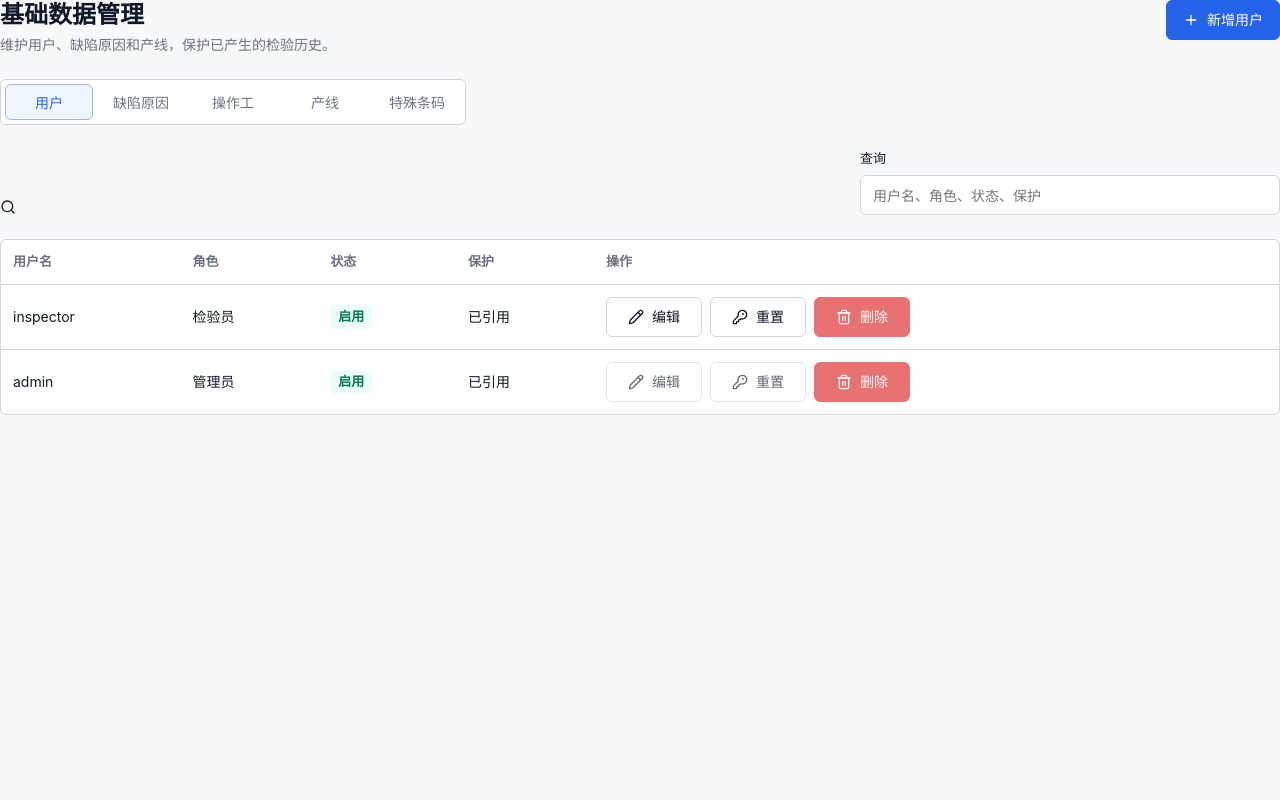
MasterDataPage › resets an inspector password and shows the result
This screenshot has width=1280, height=800.
Click the button with aria-label "重置密码 inspector".
click(758, 317)  # box [710,297,806,337]
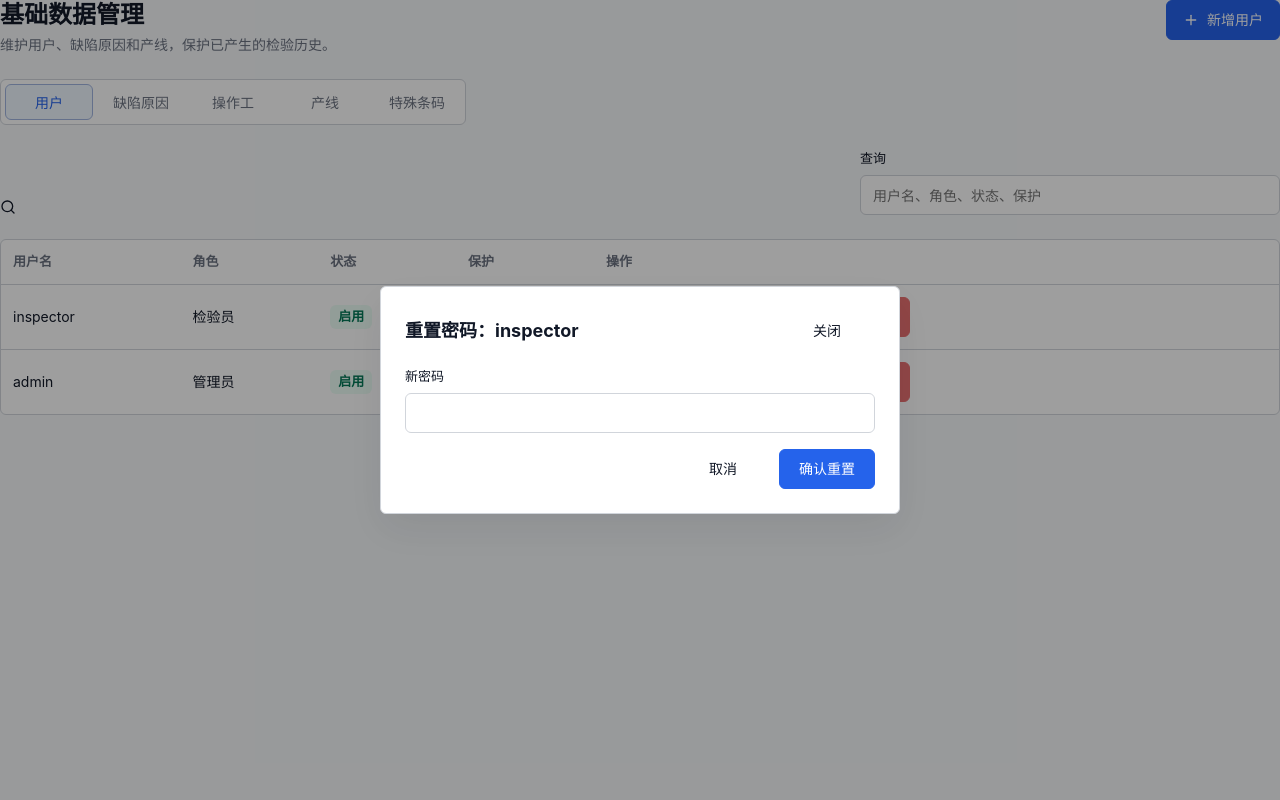
Type "reset-password" into the password field labelled "新密码".
click(640, 413); type("reset-password")  # box [405,393,875,433]
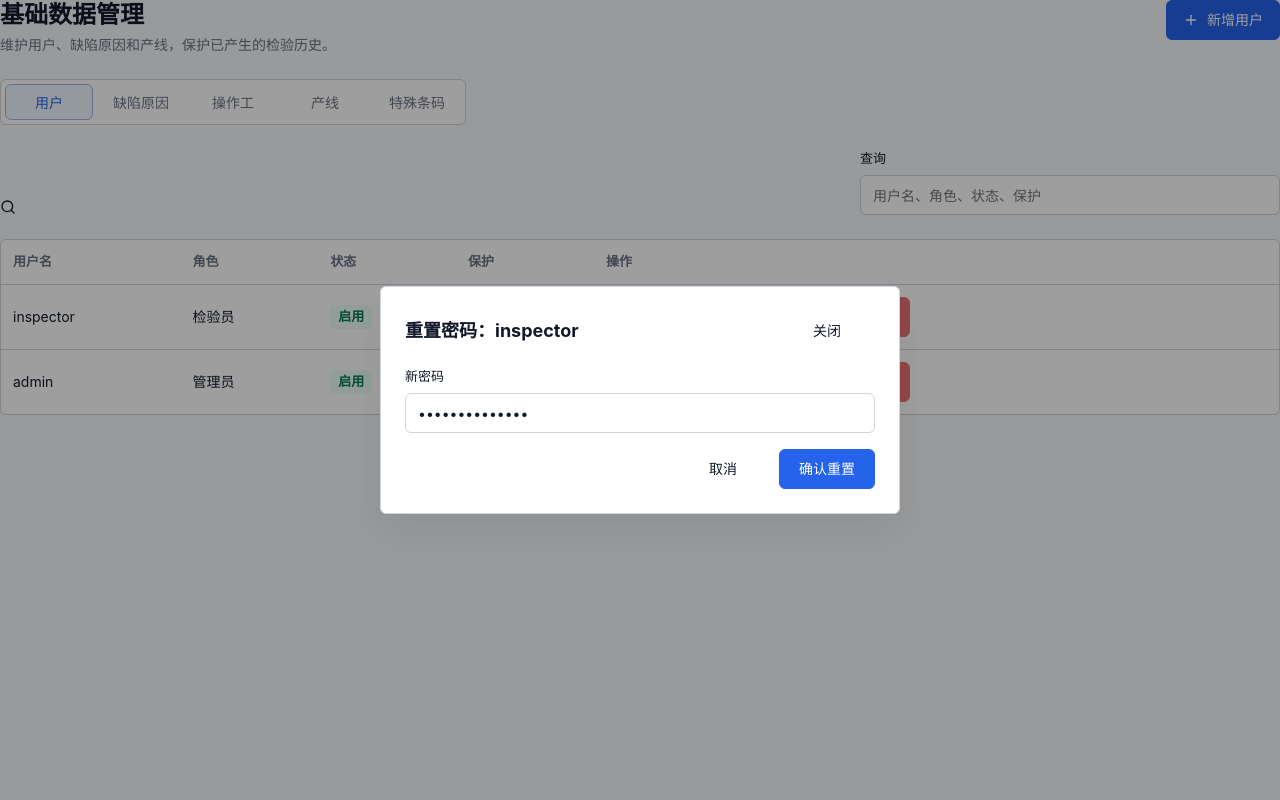
Click the button "确认重置".
click(827, 469)  # box [779,449,875,489]
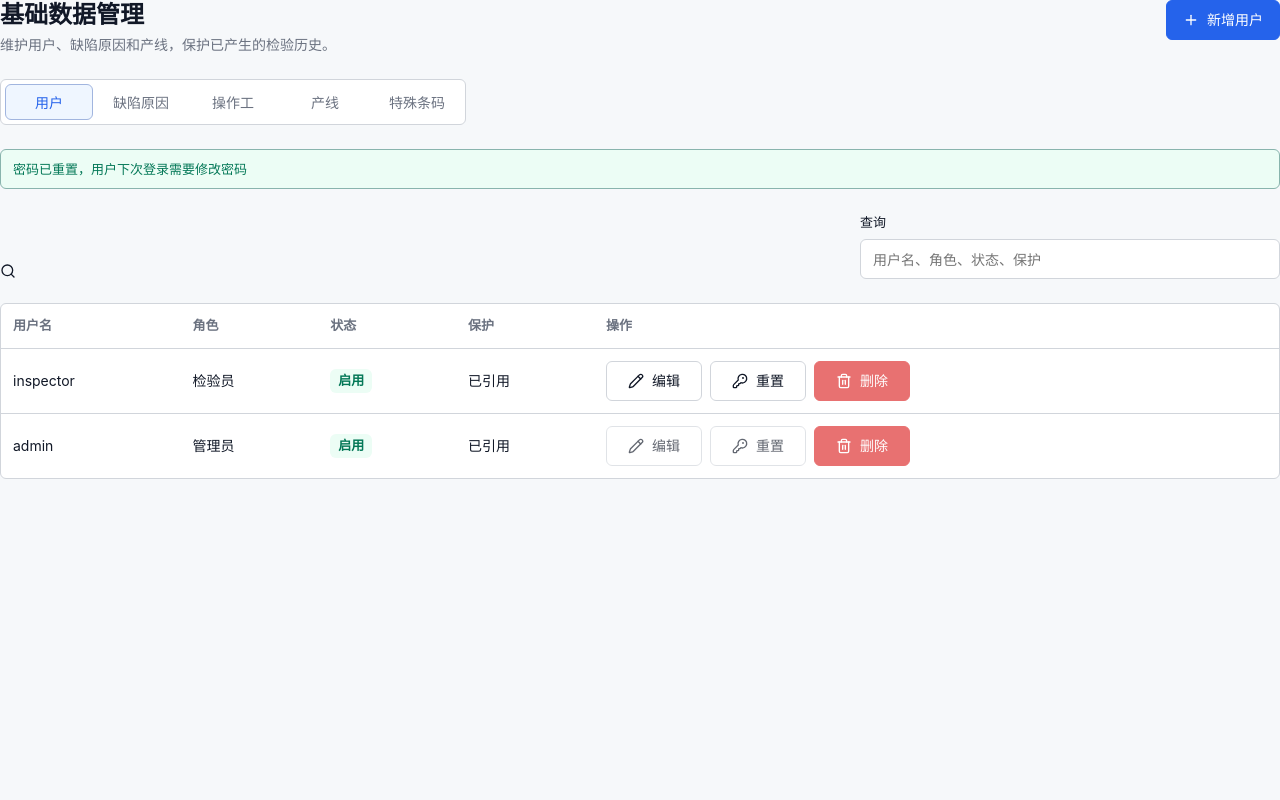
Expected: the text "密码已重置，用户下次登录需要修改密码" is shown, [0,149,1279,189]
